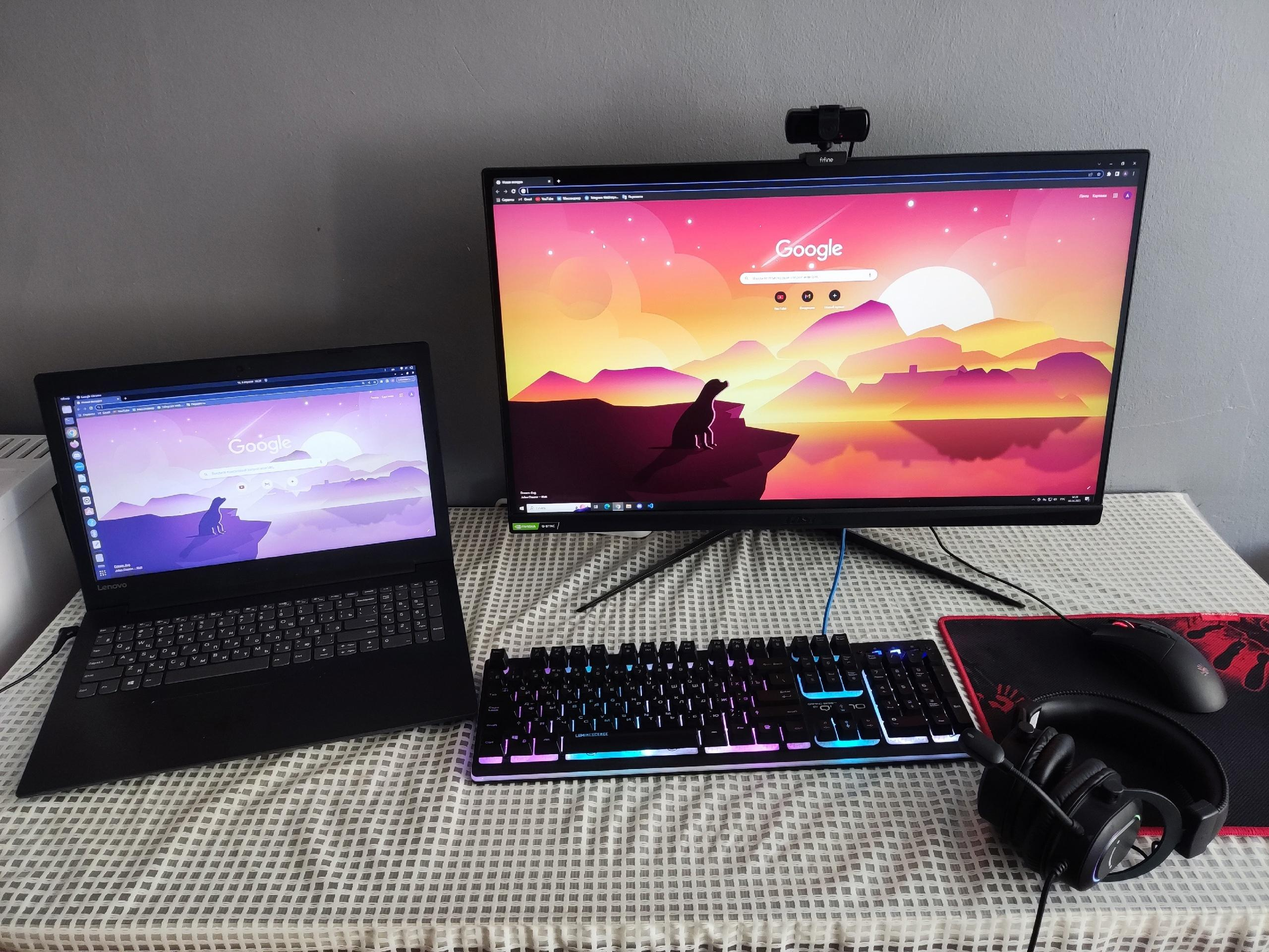monitor: (476, 147, 1152, 535), (30, 332, 456, 620)
